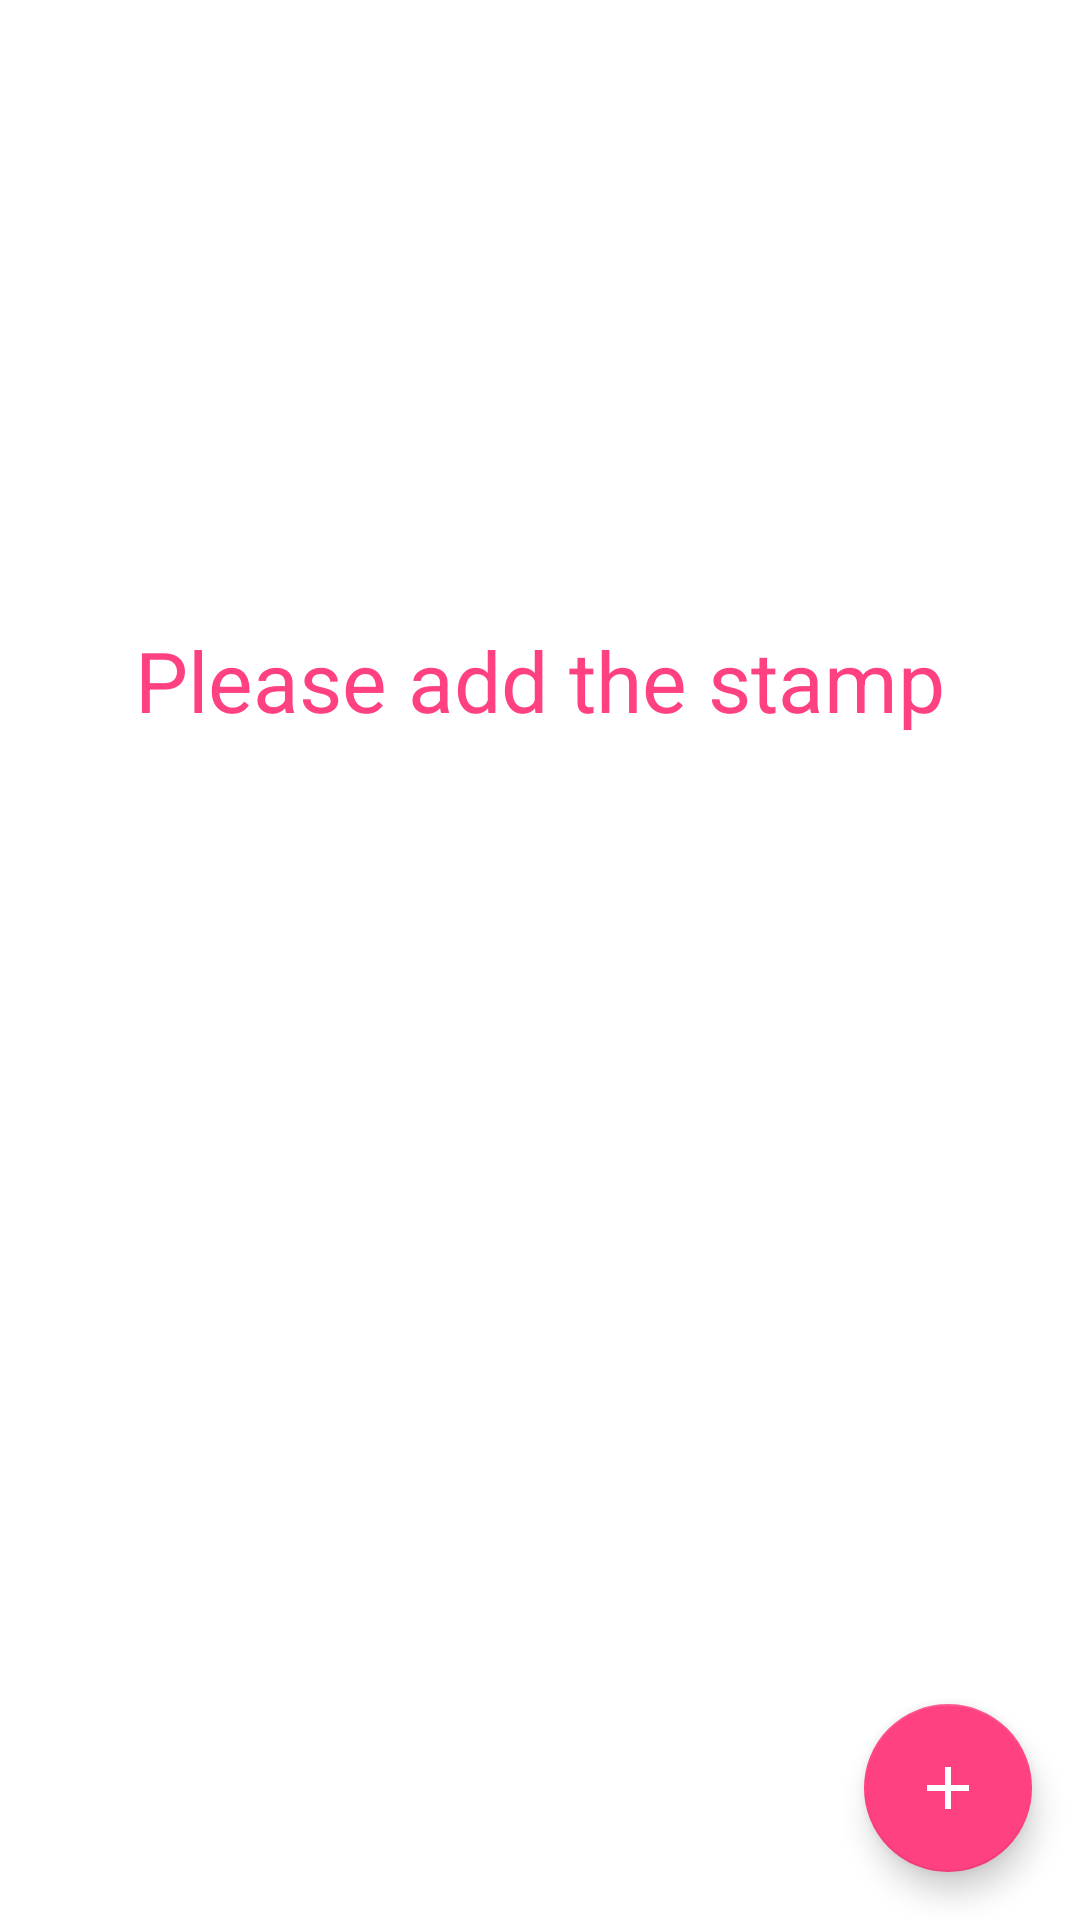

Named icons in this screenshot (1080px×1920px) and their bounding boxes, (x1, y1, x2, y2):
floating addstamp: (864, 1704, 1032, 1872)
